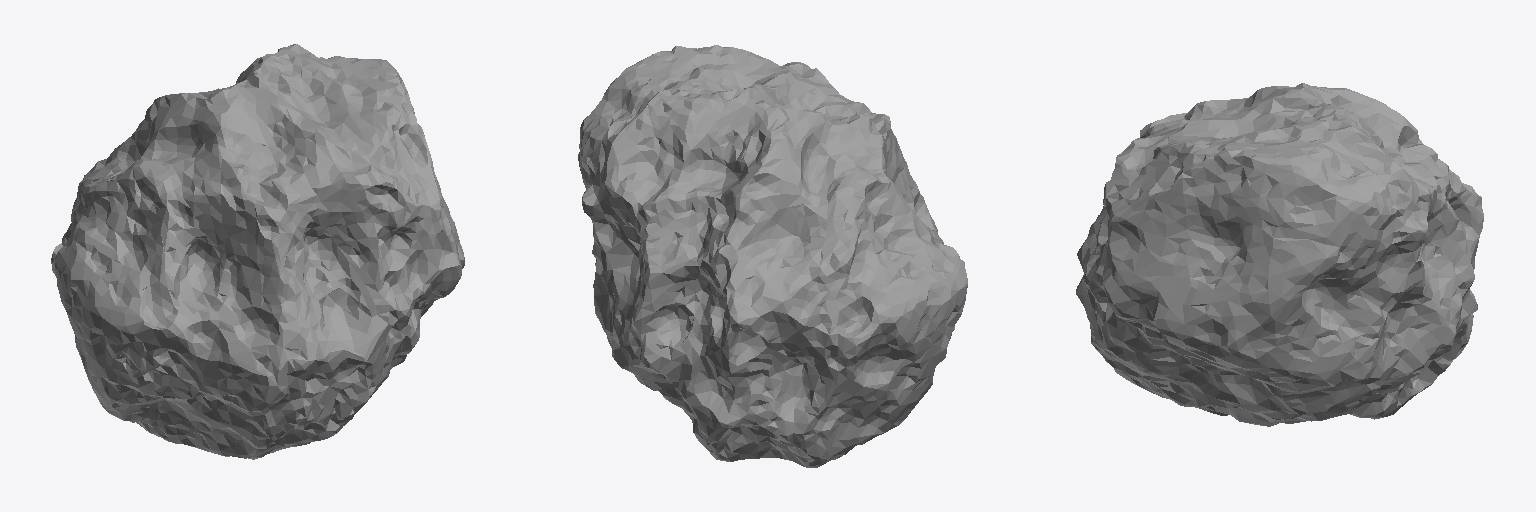
The model's file is Asteroid_1_LOW_MODEL_.obj.
The picture shows the model from 3 angles: view 1: azimuth 30°, elevation 25°; view 2: azimuth 150°, elevation 25°; view 3: azimuth 270°, elevation 25°; orthographic projection.
Visible parts, largest first — view 1: ASTEROID_LOW_POLY_1__Reduced_ASTEROID_LOW_POLY_1__Cube.001; view 2: ASTEROID_LOW_POLY_1__Reduced_ASTEROID_LOW_POLY_1__Cube.001; view 3: ASTEROID_LOW_POLY_1__Reduced_ASTEROID_LOW_POLY_1__Cube.001.
Part boxes in pixels (bbox=[...]): ASTEROID_LOW_POLY_1__Reduced_ASTEROID_LOW_POLY_1__Cube.001: bbox=[51, 44, 464, 459]; ASTEROID_LOW_POLY_1__Reduced_ASTEROID_LOW_POLY_1__Cube.001: bbox=[578, 45, 967, 467]; ASTEROID_LOW_POLY_1__Reduced_ASTEROID_LOW_POLY_1__Cube.001: bbox=[1076, 83, 1483, 426].
Bounding box in the file's own units: 1.9 × 1.79 × 1.93.